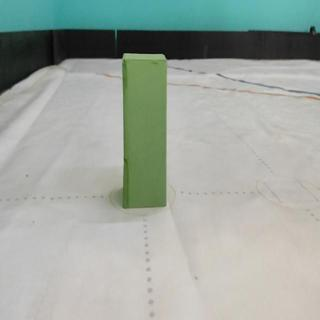greenbox: (121, 52, 168, 209)
